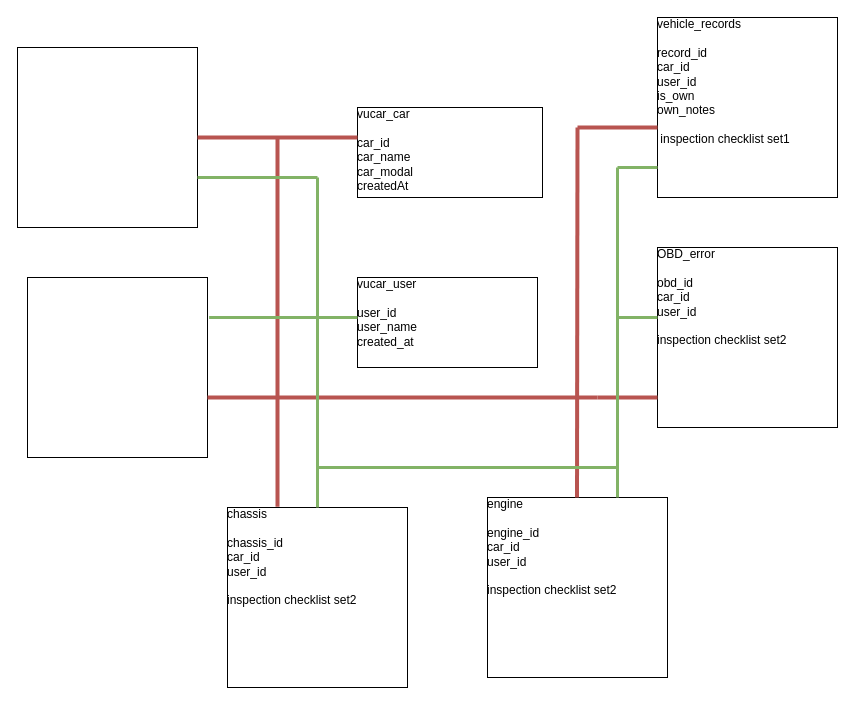
This 855x705 diagram has some shape labels left out. Here are the shapes that lost their labels. From the top down, the box of each, then its label:
(16, 46, 198, 228): check_on_road check_id car_id user_id inspection checklist set2
(26, 276, 208, 458): body_car body_car_id car_id user_id inspection checklist set2
